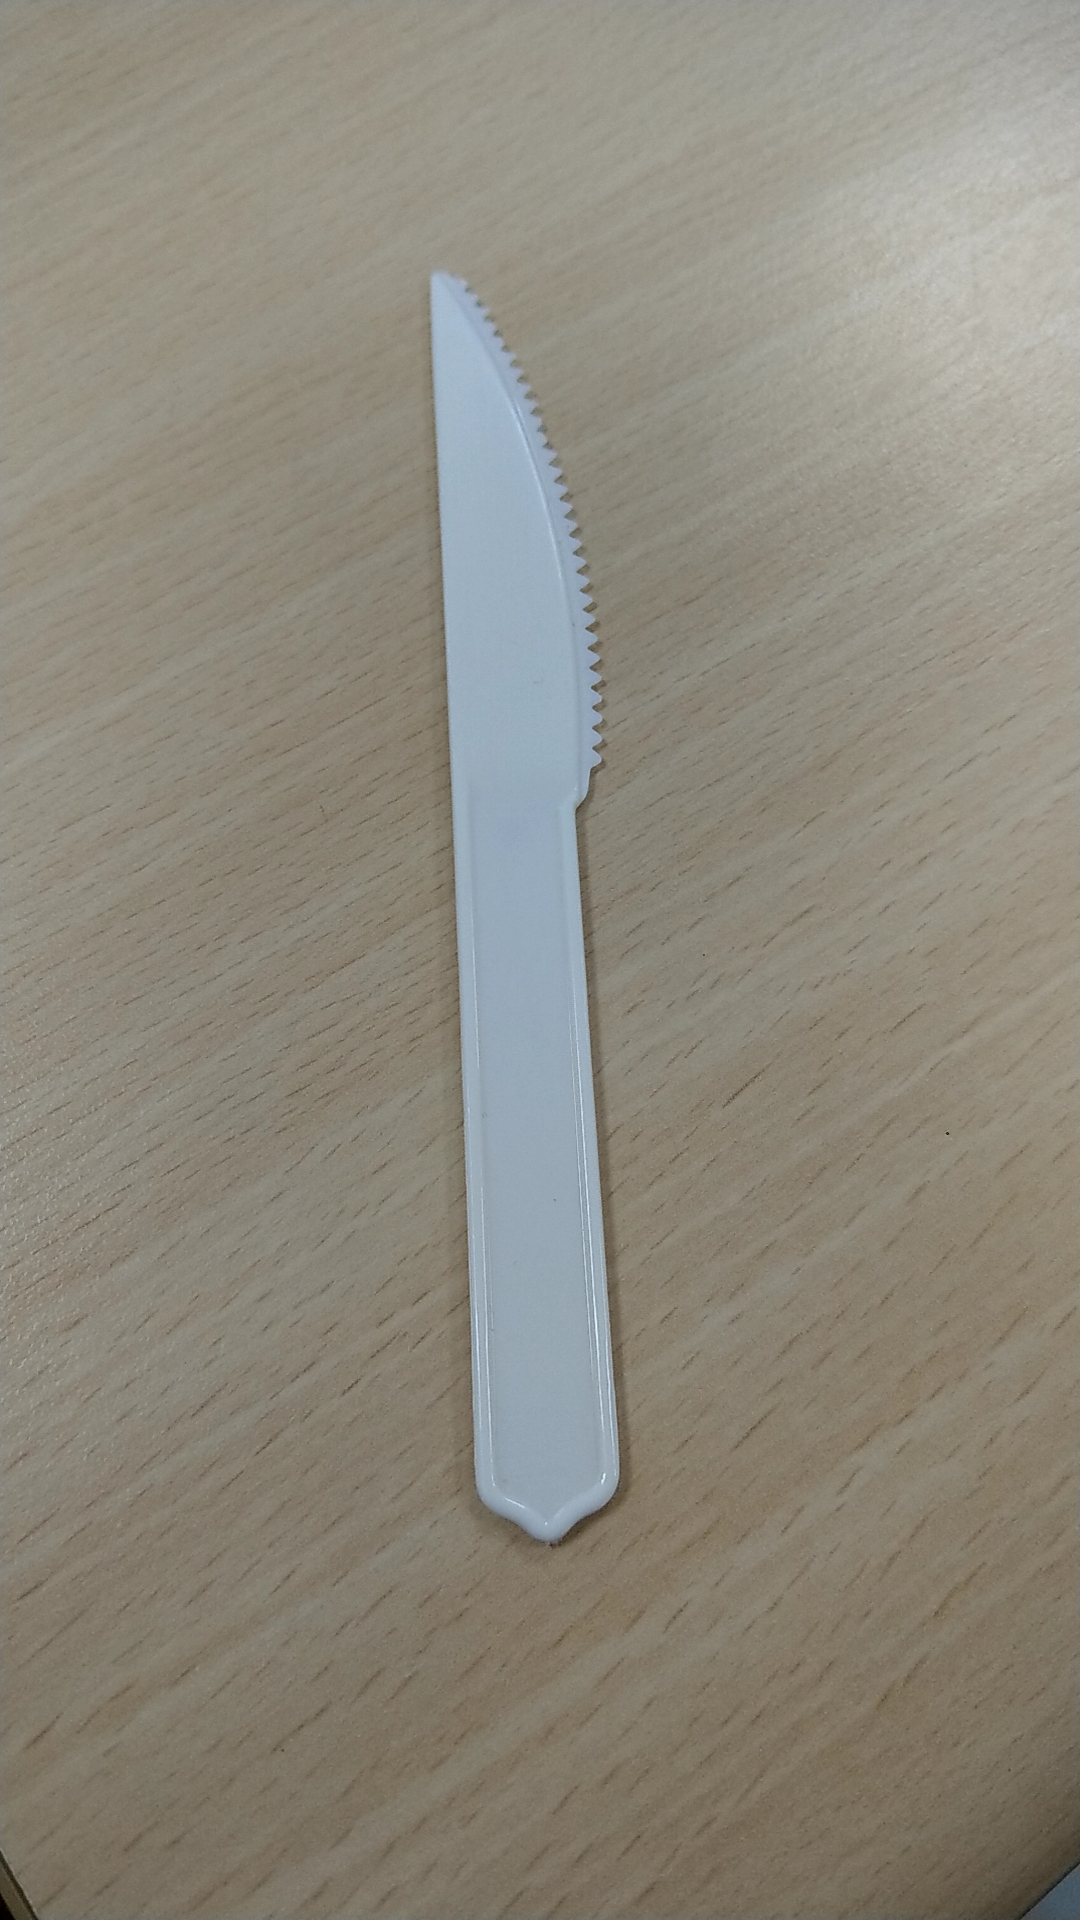knife: (386, 255, 666, 1572)
